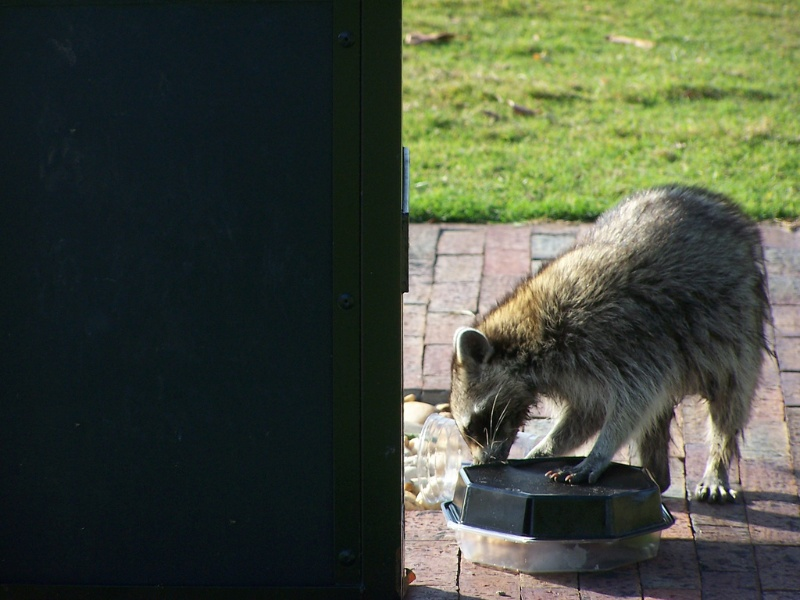raccoon: (451, 181, 774, 504)
